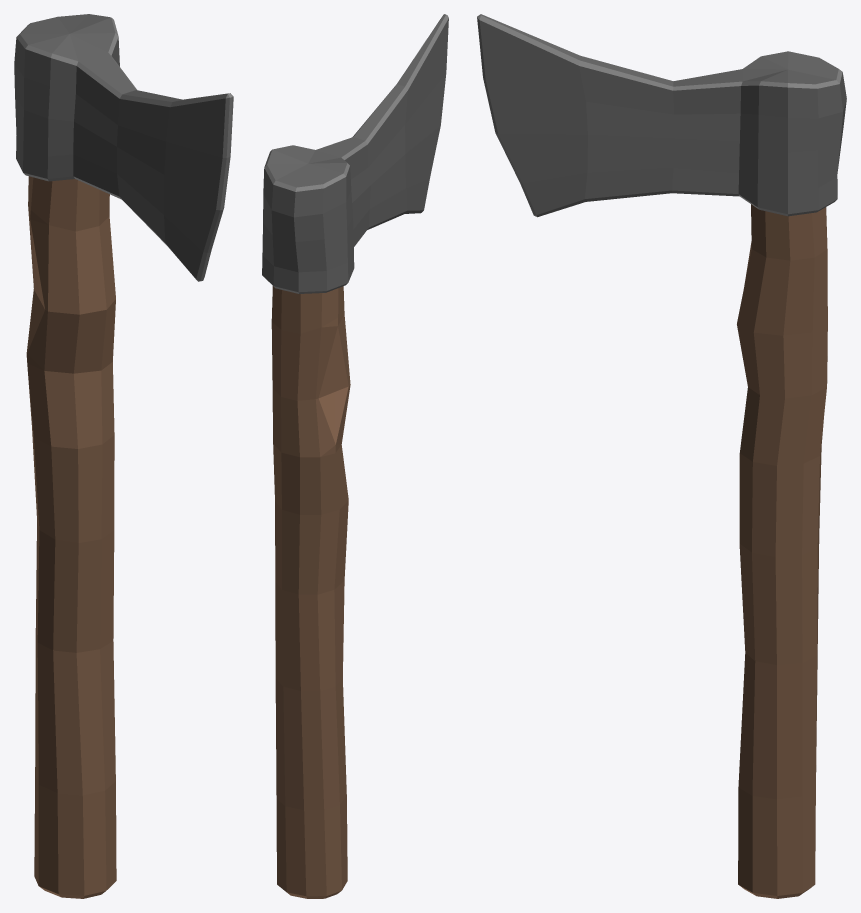
Rendered from Axe_01.fbx.
The picture shows the model from 3 angles, left to right: view 1: azimuth 30°, elevation 25°; view 2: azimuth 150°, elevation 25°; view 3: azimuth 270°, elevation 25°; orthographic projection. The views are drawn at different scales.
Parts seen in each view (by area): view 1: Axe_01; view 2: Axe_01; view 3: Axe_01.
Part boxes in pixels (<box>): Axe_01: <box>14,14,233,898</box>; Axe_01: <box>262,14,448,898</box>; Axe_01: <box>477,14,846,898</box>.
Size of the model in its own units: 13.94 by 129 by 49.54.
